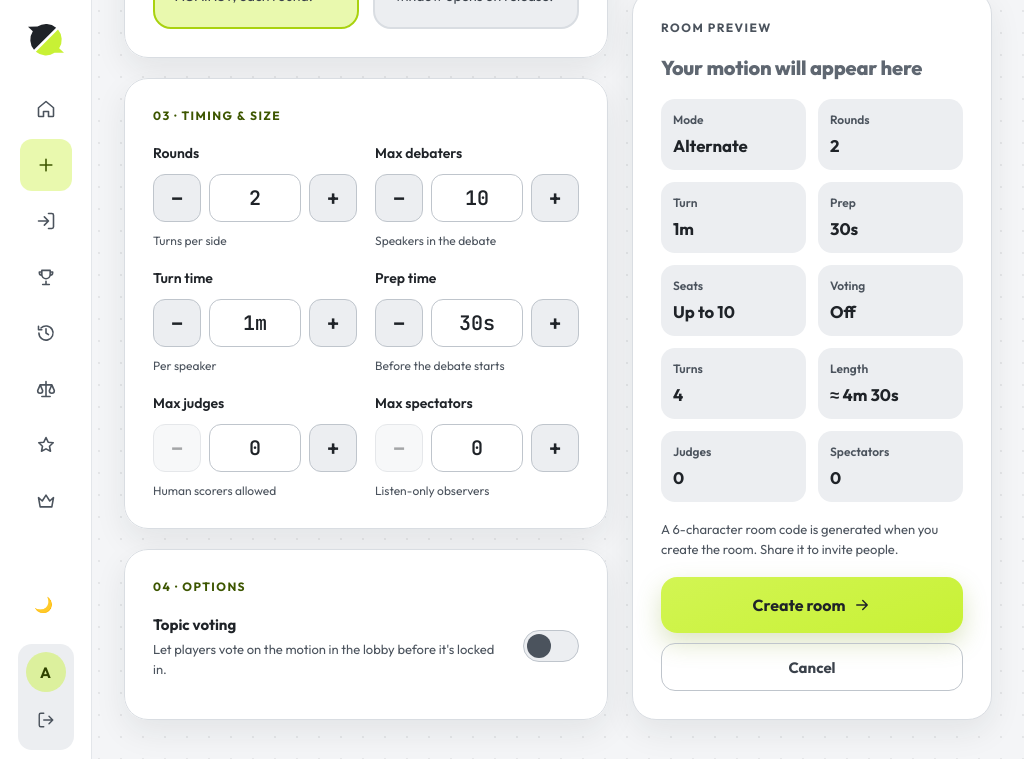
Scenario: CreateRoom › voting toggle › clicking toggle as Pro user enables voting mode
The width and height of the screenshot is (1024, 759).
(page scrolled)
Click the switch named "Topic voting" at (551, 646), box [523,630,579,662]
(page scrolled)
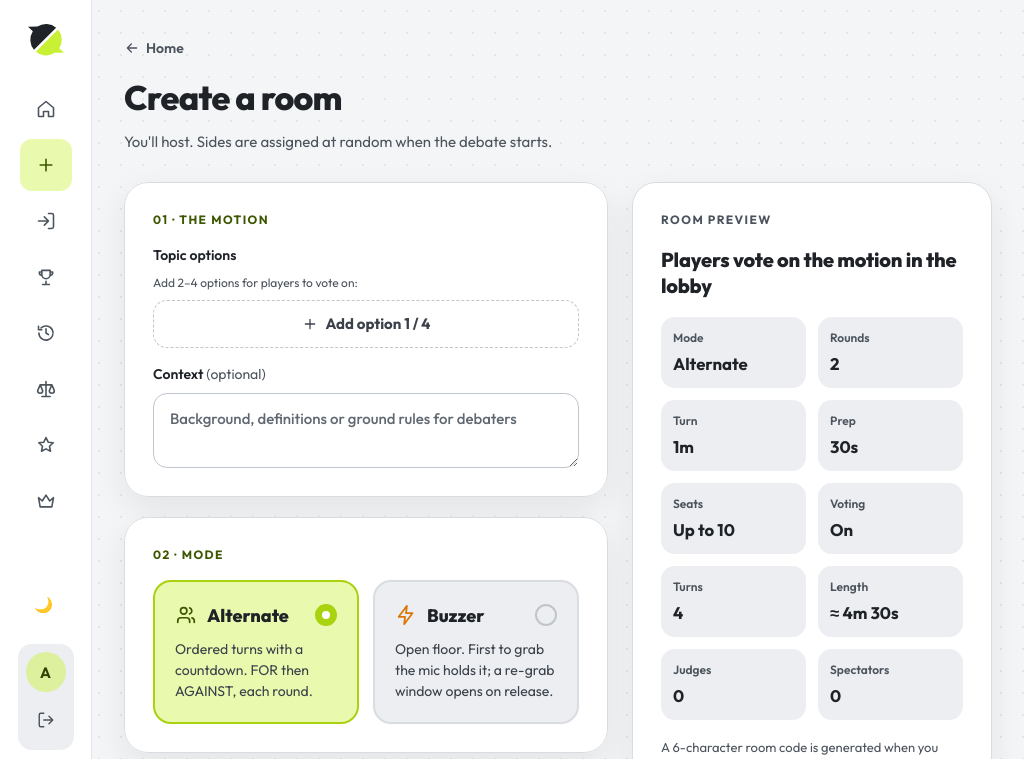
Check: the text "Add 2–4 options for players to vote on:" is shown, box [153,274,358,290]
